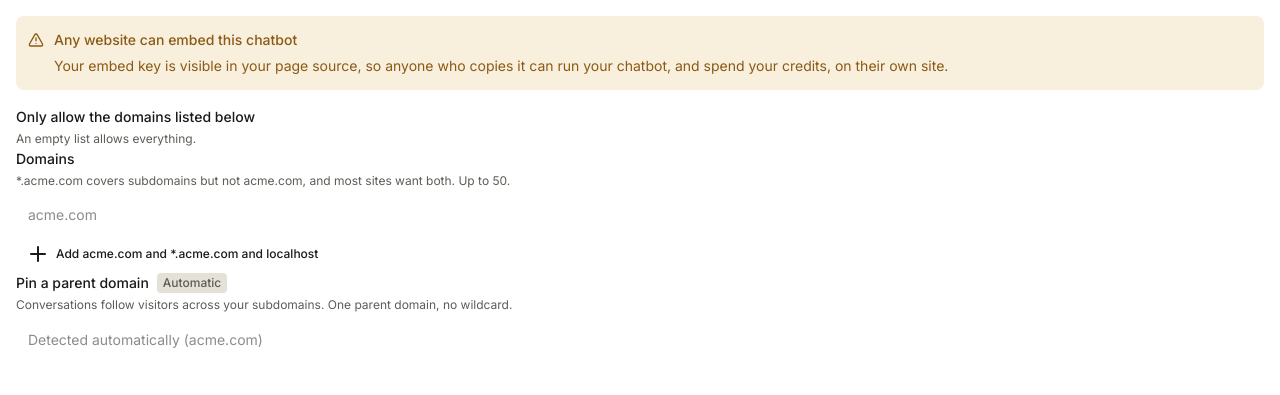
Scenario: session continuity › rejects a wildcard with the reason it cannot work, before any request
Type "*.acme.com" into the field named "Pin a parent domain" at (208, 339), box left=16, top=322, right=400, bottom=356
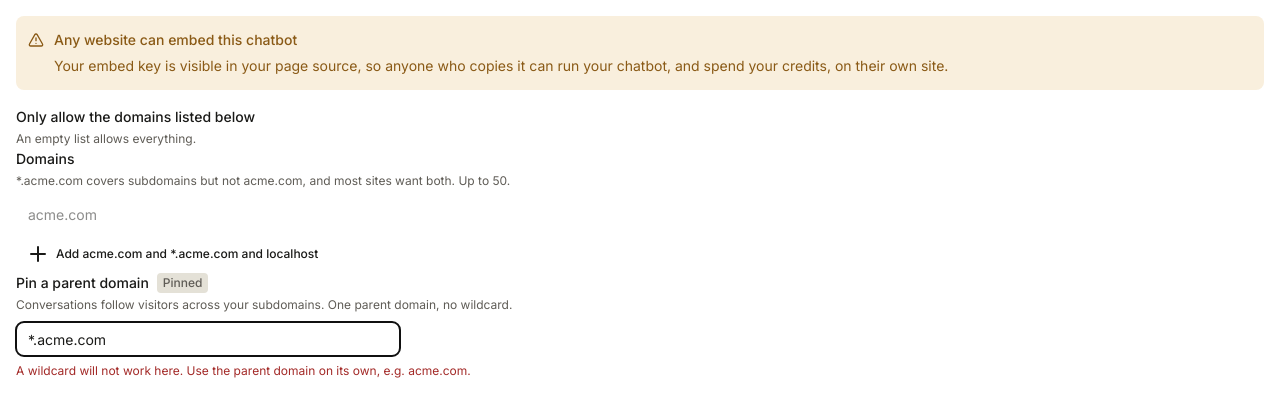
Result: the text "A wildcard will not work here" is shown at left=16, top=363, right=471, bottom=378
